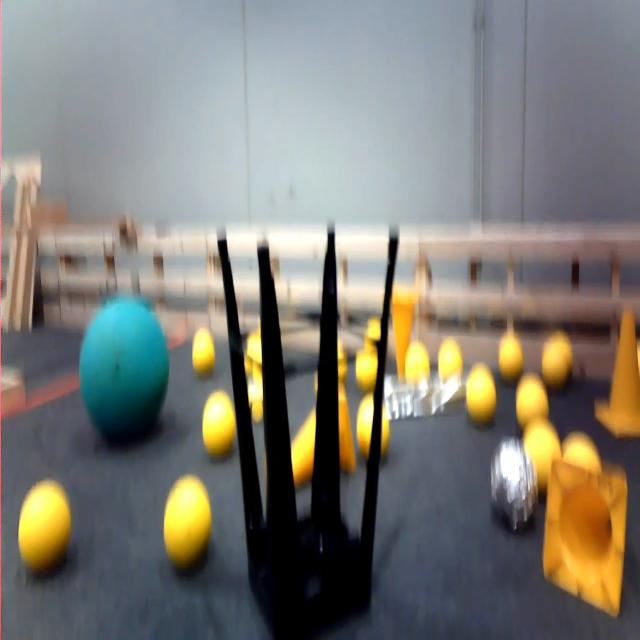fuel: (16, 467, 73, 602), (160, 469, 227, 574), (192, 386, 252, 471), (510, 357, 554, 438), (460, 352, 503, 434), (351, 390, 392, 465), (524, 417, 566, 490), (556, 417, 604, 479), (491, 329, 533, 386), (539, 328, 576, 389), (351, 339, 386, 398), (188, 316, 218, 382), (403, 339, 435, 392), (437, 336, 468, 388)
